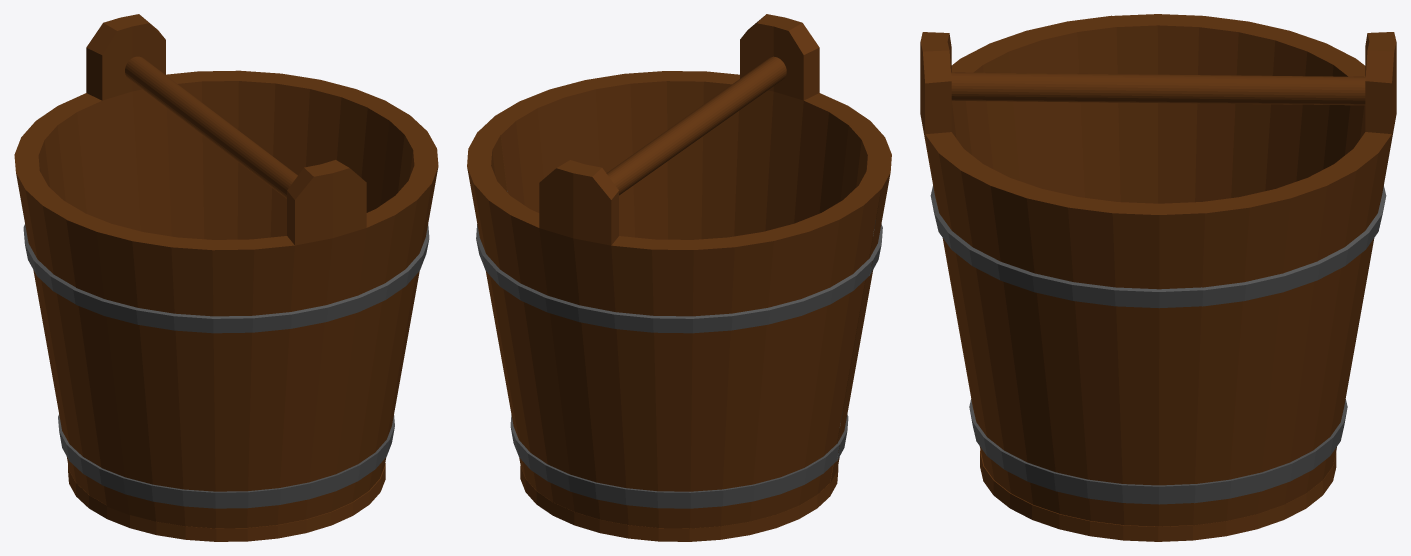
Rendered from Bucket1.fbx.
3 renders of one model, left to right at view 1: azimuth 30°, elevation 25°; view 2: azimuth 150°, elevation 25°; view 3: azimuth 270°, elevation 25°, orthographic. The views are drawn at different scales.
Parts seen in each view (by area): view 1: Cylinder.002; view 2: Cylinder.002; view 3: Cylinder.002.
Part boxes in pixels (left/top/right/bottom): Cylinder.002: left=14, top=14, right=438, bottom=541; Cylinder.002: left=467, top=14, right=891, bottom=541; Cylinder.002: left=920, top=14, right=1396, bottom=541.
Bounding box in the file's own units: 54.98 × 54.14 × 54.98.
